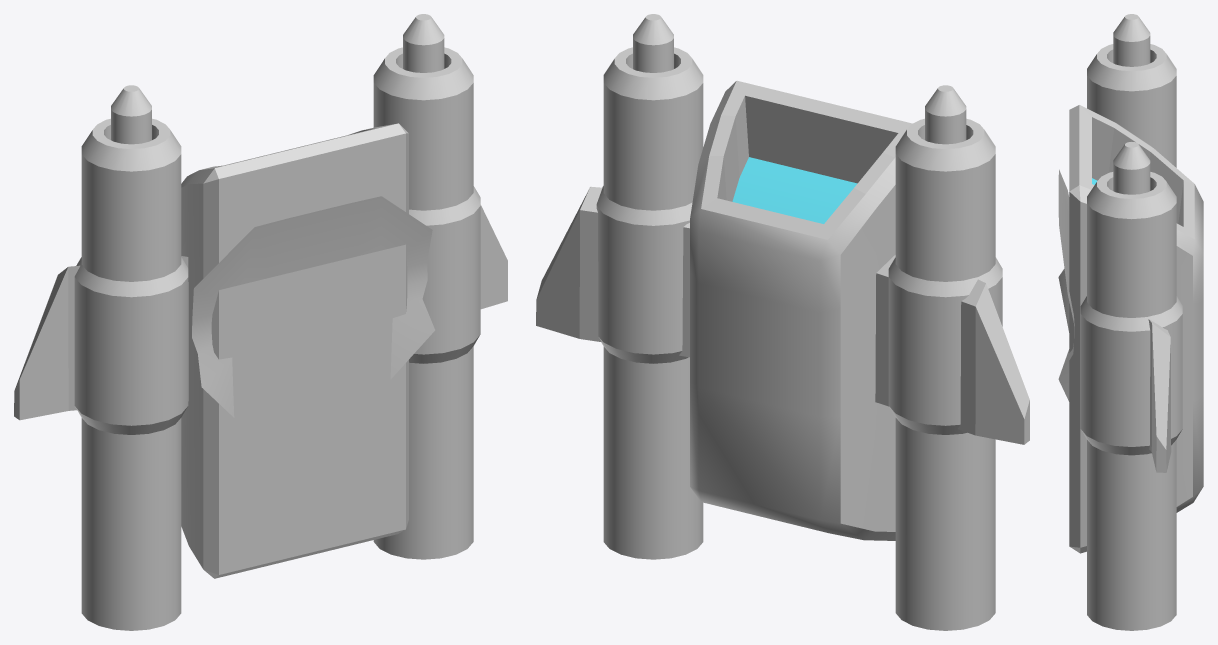
Rendered from Mod_BackPlate_Brains1.fbx.
3 renders of one model, left to right at view 1: azimuth 30°, elevation 25°; view 2: azimuth 150°, elevation 25°; view 3: azimuth 270°, elevation 25°, orthographic. The views are drawn at different scales.
Parts seen in each view (by area): view 1: Mod_BackPlate_Brains1; view 2: Mod_BackPlate_Brains1; view 3: Mod_BackPlate_Brains1.
Part boxes in pixels (x1,y1,x2,y2): Mod_BackPlate_Brains1: (14,14,507,630); Mod_BackPlate_Brains1: (536,14,1029,630); Mod_BackPlate_Brains1: (1058,14,1203,630).
Size of the model in its own units: 667 by 680 by 192.
